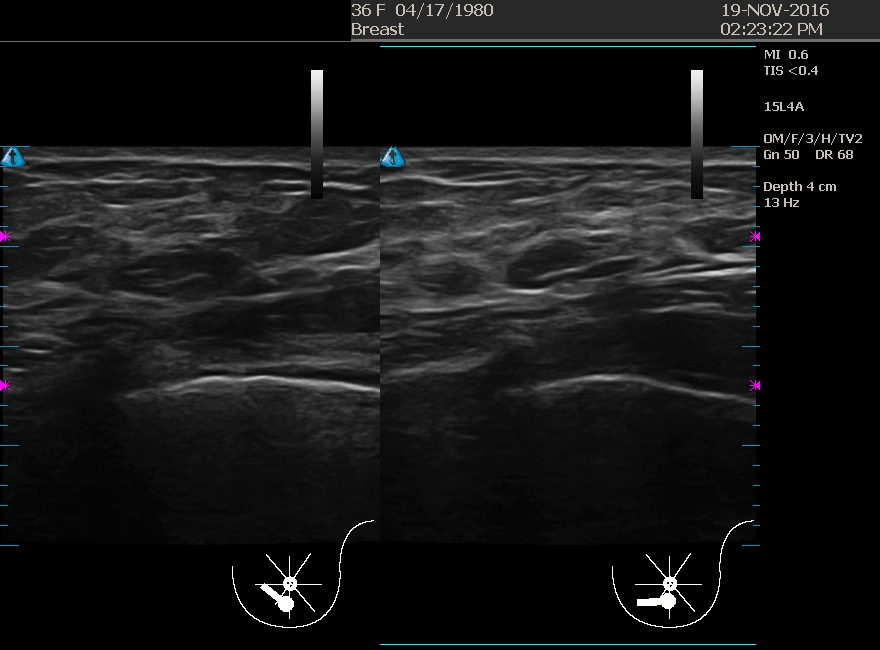BIRADS_3: (103, 204, 295, 396), (473, 185, 665, 377)
